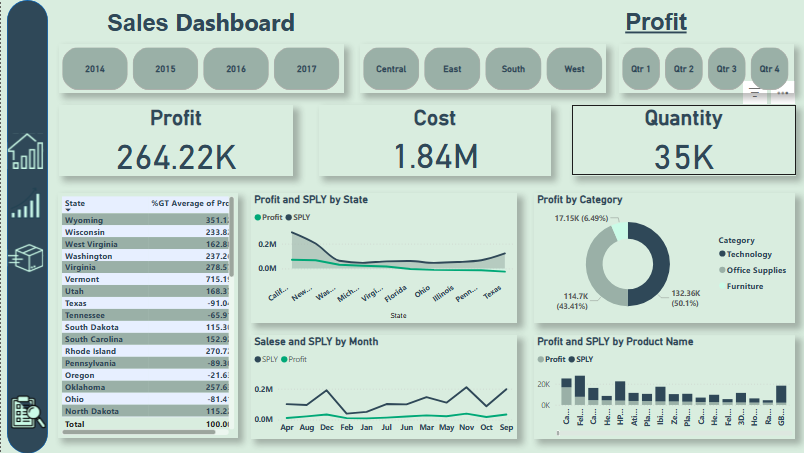

This screenshot's page, from the dashboard's own definition file:
{"tool":"powerbi","page":{"name":"Profit","canvas":[1280,720],"ordinal":1},"visuals":[{"type":"card","title":"Quantity","fields":{"Values":["Key Measure.Quantity"]},"box":[906.7,166.7,355,111.7],"z":0},{"type":"card","title":"Cost","fields":{"Values":["Key Measure.Cost"]},"box":[505,166.7,368.3,111.7],"z":1000},{"type":"card","title":"Profit","fields":{"Values":["Key Measure.Profit"]},"box":[91.7,166.7,371.7,111.7],"z":2000},{"type":"lineChart","title":"Salese and SPLY by Month ","fields":{"Category":["Calender.MonthName"],"Y":["Key Measure.SPLY","Key Measure.Profit"]},"box":[396.7,531.9,423.2,164.6],"z":3000},{"type":"donutChart","fields":{"Category":["Query - Orders.Category"],"Y":["Key Measure.Profit"]},"box":[846.7,306.7,415,206.7],"z":4000},{"type":"areaChart","fields":{"Category":["Query - Orders.State"],"Y":["Key Measure.Profit","Key Measure.SPLY"]},"box":[396.7,307.1,423.2,205.7],"z":5000},{"type":"columnChart","fields":{"Category":["Query - Orders.Product Name"],"Y":["Key Measure.Profit","Key Measure.SPLY"]},"box":[846.7,531.7,415,165],"z":6000},{"type":"tableEx","fields":{"Values":["Query - Orders.State","Sum(Query - Orders.Profit)"]},"box":[91.1,307.1,285.1,389.4],"z":7000},{"type":"shape","box":[10,0,65,720],"z":8000},{"type":"actionButton","box":[6.7,278.3,65,88.3],"z":9000},{"type":"actionButton","box":[6.7,195,65,88.3],"z":10000},{"type":"actionButton","box":[11.7,610,65,88.3],"z":11000},{"type":"actionButton","box":[6.7,365,65,88.3],"z":12000},{"type":"textbox","box":[110.2,4.4,415.8,66.1],"z":13000},{"type":"textbox","box":[919.8,0,241,70.5],"z":14000},{"type":"advancedSlicerVisual","fields":{"Values":["Calender.Date.Variation.Date Hierarchy.Year"]},"box":[91.7,70,451.7,78.3],"z":15000},{"type":"advancedSlicerVisual","fields":{"Values":["Query - Orders.Region"]},"box":[570,70,390,78.3],"z":16000},{"type":"advancedSlicerVisual","fields":{"Values":["Calender.Date.Variation.Date Hierarchy.Quarter"]},"box":[981.7,70,276.7,78.3],"z":17000}]}

Visuals, with their boxes on the page's 1280x720 design canvas (x1, y1, x2, y2). These are canvas units, not pixel positions in the 804x453 screenshot, which may show the page scaled, cropped or inside an application window:
"Quantity" card: 907, 167, 1262, 278
"Cost" card: 505, 167, 873, 278
"Profit" card: 92, 167, 463, 278
"Salese and SPLY by Month " lineChart: 397, 532, 820, 696
donutChart - Query - Orders.Category x Key Measure.Profit: 847, 307, 1262, 513
areaChart - Query - Orders.State x Key Measure.Profit: 397, 307, 820, 513
columnChart - Query - Orders.Product Name x Key Measure.Profit: 847, 532, 1262, 697
tableEx - Query - Orders.State x Sum(Query - Orders.Profit): 91, 307, 376, 696
shape: 10, 0, 75, 720
actionButton: 7, 278, 72, 367
actionButton: 7, 195, 72, 283
actionButton: 12, 610, 77, 698
actionButton: 7, 365, 72, 453
textbox: 110, 4, 526, 70
textbox: 920, 0, 1161, 70
advancedSlicerVisual - Calender.Date.Variation.Date Hierarchy.Year: 92, 70, 543, 148
advancedSlicerVisual - Query - Orders.Region: 570, 70, 960, 148
advancedSlicerVisual - Calender.Date.Variation.Date Hierarchy.Quarter: 982, 70, 1258, 148
